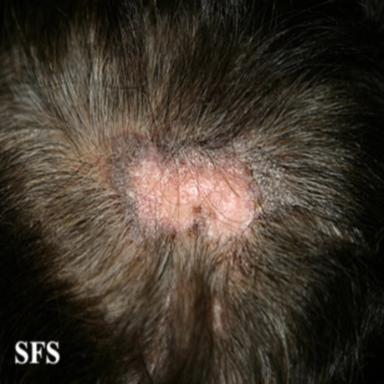Lupus-Erythematosus-Chronicus-Discoides: (104, 129, 314, 246)
